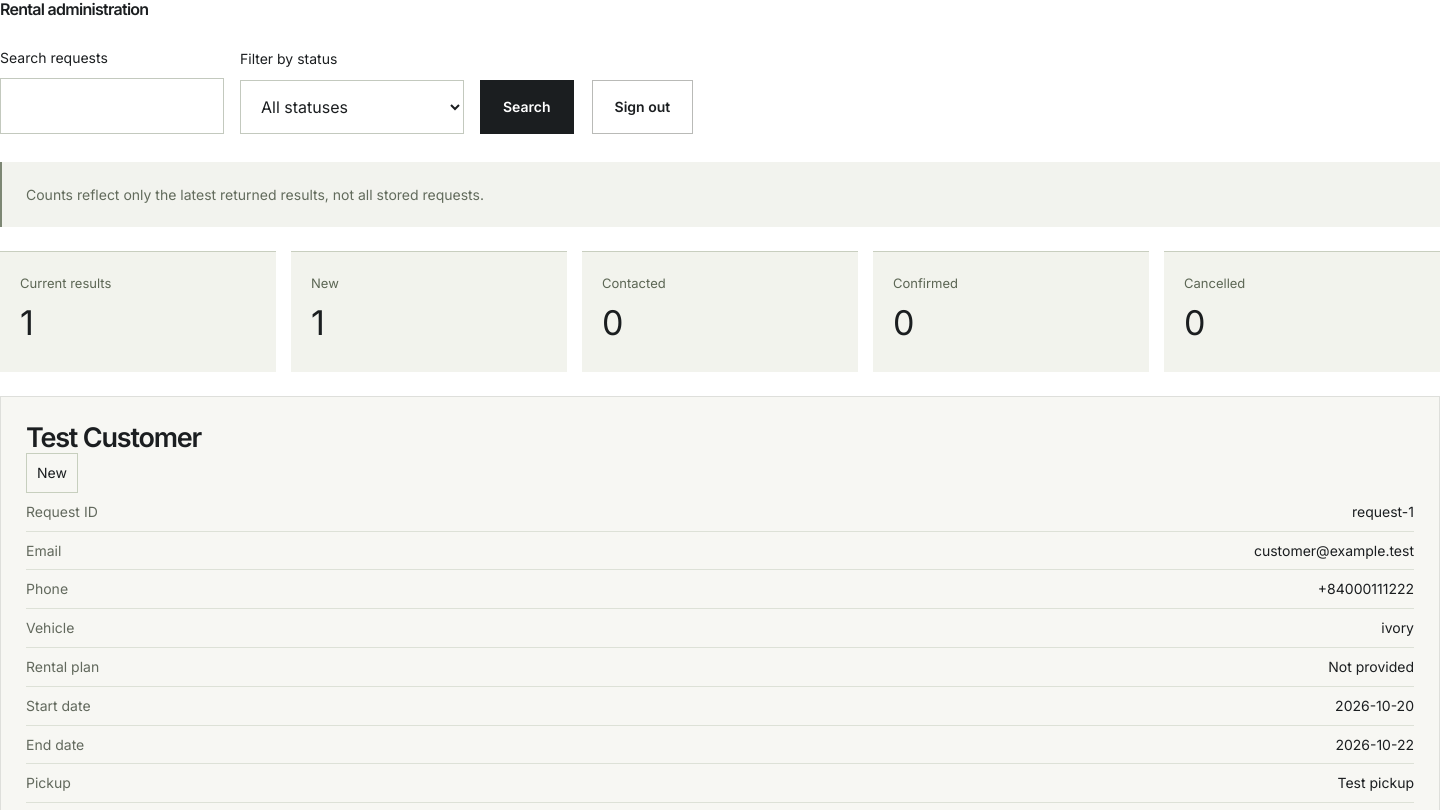
Test case: clears customer data immediately on logout, even before the server responds
Expected: the text "customer@example.test" is shown, [1254,539,1414,562]
Step 1. Click the button "Sign out" → (642, 106), box [592,80,693,134]
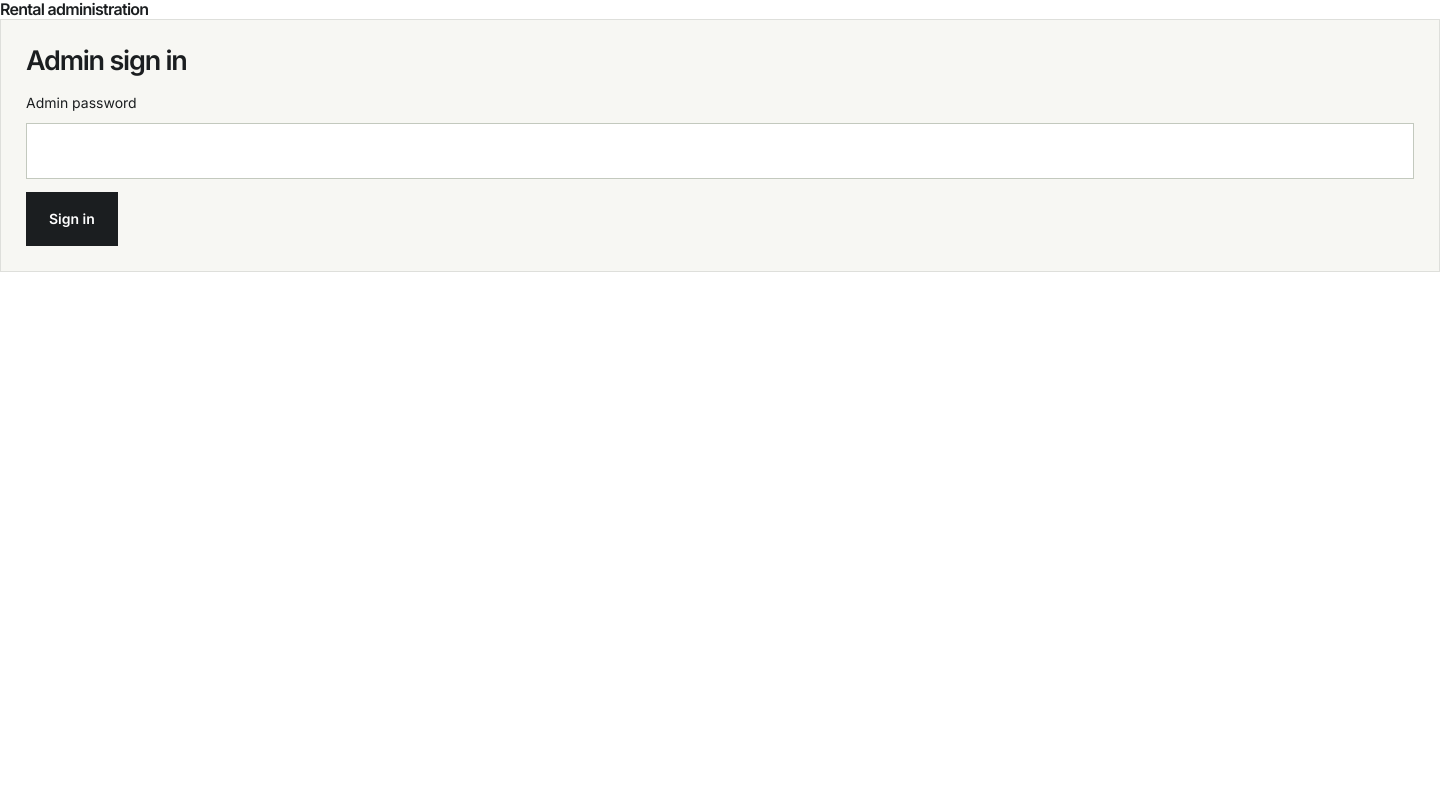
Expected: the password field labelled "Admin password" is shown, [26,123,1414,179]
Now the text "customer@example.test" is gone
Now the heading "Test Customer" is gone
